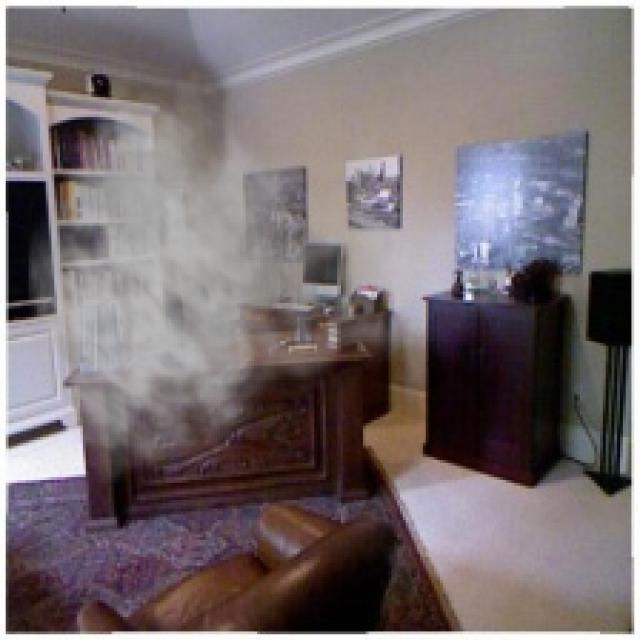Smoke: (26, 60, 428, 483)
